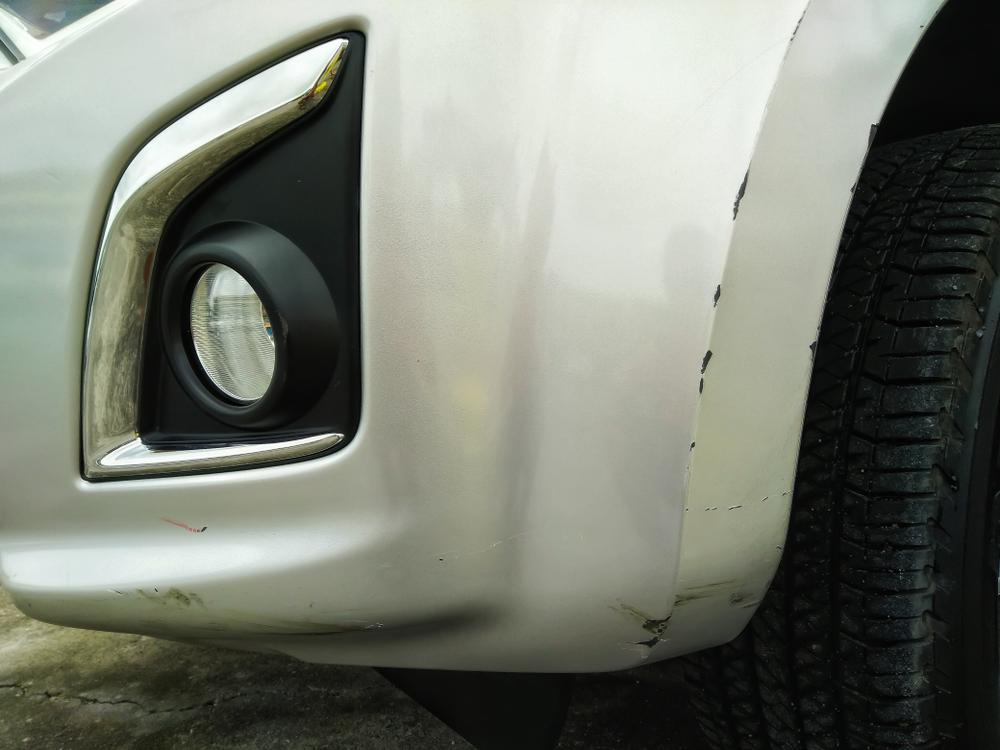scratch: (600, 0, 811, 658)
